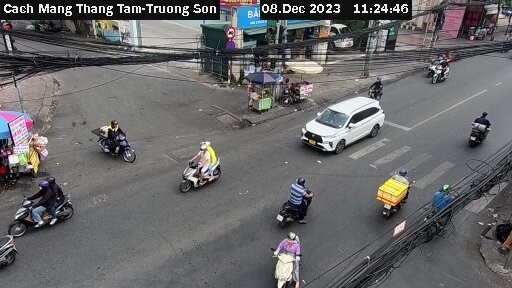motorbike: (293, 92, 389, 155), (251, 234, 312, 288), (16, 188, 86, 232), (97, 123, 151, 175), (181, 150, 233, 201), (265, 185, 317, 226), (373, 172, 412, 215), (421, 190, 457, 235), (457, 111, 495, 148), (360, 76, 393, 106), (428, 57, 458, 83)
